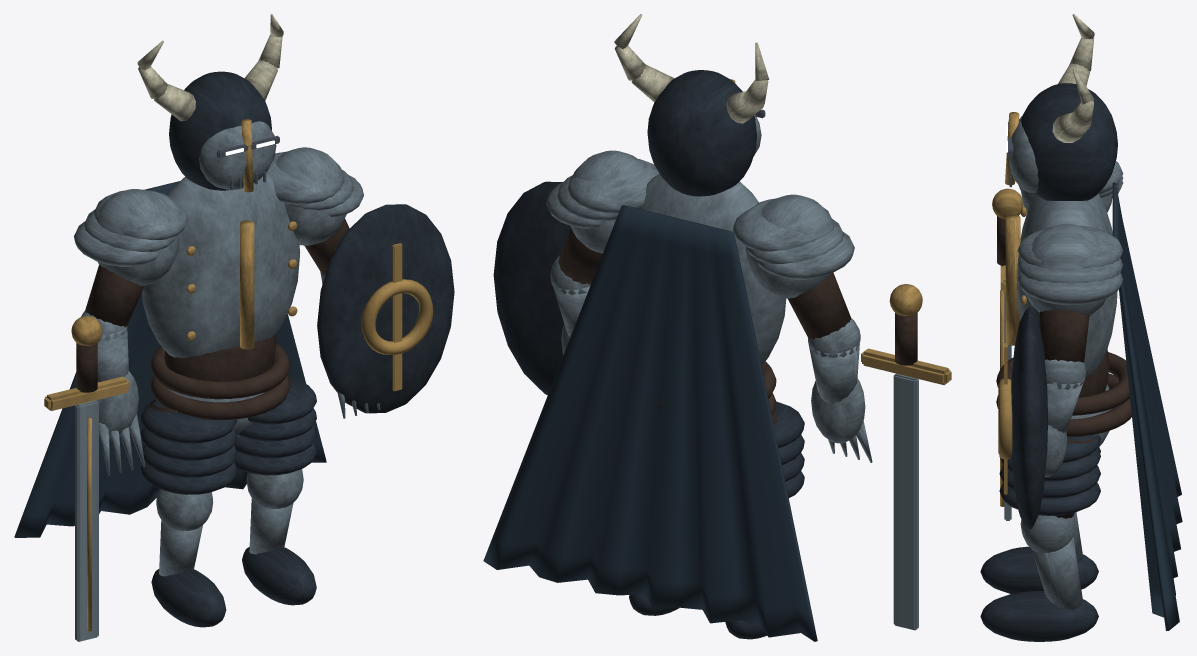
The model's file is enemy_ice_knight.glb.
The picture shows the model from 3 angles, left to right: view 1: azimuth 30°, elevation 25°; view 2: azimuth 150°, elevation 25°; view 3: azimuth 270°, elevation 25°; orthographic projection. The views are drawn at different scales.
Visible parts, largest first — view 1: Weathered_blue_steel, Forged_black_iron.003, Weathered_blue_steel.002, Woven_midnight_wool, Forged_black_iron, Oiled_leather, Forged_black_iron.001, Antique_brass.002, Weathered_blue_steel.004, Forged_black_iron.002, Weathered_blue_steel.006, Weathered_blue_steel.001 (+8 smaller); view 2: Woven_midnight_wool, Weathered_blue_steel.002, Forged_black_iron.003, Forged_black_iron.002, Weathered_blue_steel.004, Weathered_blue_steel.006, Weathered_blue_steel, Aged_bone, Forged_black_iron, Oiled_leather.002, Antique_brass.002, Oiled_leather.004 (+1 smaller); view 3: Woven_midnight_wool, Weathered_blue_steel.004, Forged_black_iron.001, Forged_black_iron.002, Forged_black_iron.003, Weathered_blue_steel, Weathered_blue_steel.003, Oiled_leather, Antique_brass.002, Forged_black_iron, Aged_bone, Oiled_leather.004 (+6 smaller).
Boxes of the visible parts, x1=… form: Weathered_blue_steel: x1=142, y1=173, x2=299, y2=437; Forged_black_iron.003: x1=317, y1=204, x2=454, y2=413; Weathered_blue_steel.002: x1=74, y1=189, x2=188, y2=475; Woven_midnight_wool: x1=14, y1=181, x2=326, y2=537; Forged_black_iron: x1=140, y1=400, x2=237, y2=627; Oiled_leather: x1=150, y1=335, x2=290, y2=419; Forged_black_iron.001: x1=234, y1=377, x2=316, y2=605; Antique_brass.002: x1=44, y1=243, x2=433, y2=631; Weathered_blue_steel.004: x1=266, y1=147, x2=380, y2=418; Forged_black_iron.002: x1=169, y1=71, x2=271, y2=190; Weathered_blue_steel.006: x1=75, y1=400, x2=98, y2=641; Weathered_blue_steel.001: x1=156, y1=489, x2=213, y2=576; Woven_midnight_wool: x1=483, y1=205, x2=817, y2=641; Weathered_blue_steel.002: x1=733, y1=194, x2=872, y2=462; Forged_black_iron.003: x1=493, y1=181, x2=570, y2=395; Forged_black_iron.002: x1=647, y1=70, x2=756, y2=196; Weathered_blue_steel.004: x1=546, y1=150, x2=659, y2=354; Weathered_blue_steel.006: x1=893, y1=373, x2=918, y2=630; Weathered_blue_steel: x1=640, y1=174, x2=786, y2=364; Aged_bone: x1=614, y1=14, x2=769, y2=123; Forged_black_iron: x1=725, y1=401, x2=804, y2=639; Oiled_leather.002: x1=788, y1=272, x2=851, y2=339; Antique_brass.002: x1=861, y1=284, x2=951, y2=385; Oiled_leather.004: x1=558, y1=228, x2=602, y2=284; Woven_midnight_wool: x1=1112, y1=182, x2=1182, y2=630; Weathered_blue_steel.004: x1=1017, y1=223, x2=1123, y2=509; Forged_black_iron.001: x1=980, y1=434, x2=1100, y2=641; Forged_black_iron.002: x1=1021, y1=83, x2=1117, y2=200; Forged_black_iron.003: x1=1011, y1=308, x2=1047, y2=529; Weathered_blue_steel: x1=1016, y1=193, x2=1117, y2=448; Weathered_blue_steel.003: x1=1020, y1=515, x2=1082, y2=609; Oiled_leather: x1=996, y1=349, x2=1131, y2=436; Antique_brass.002: x1=992, y1=188, x2=1023, y2=506; Forged_black_iron: x1=980, y1=447, x2=1100, y2=593; Aged_bone: x1=1052, y1=14, x2=1094, y2=142; Oiled_leather.004: x1=1039, y1=309, x2=1089, y2=362.
Size of the model in its own units: 2.15 by 2.78 by 0.886.
Materials: 9 (7 with a texture image).
